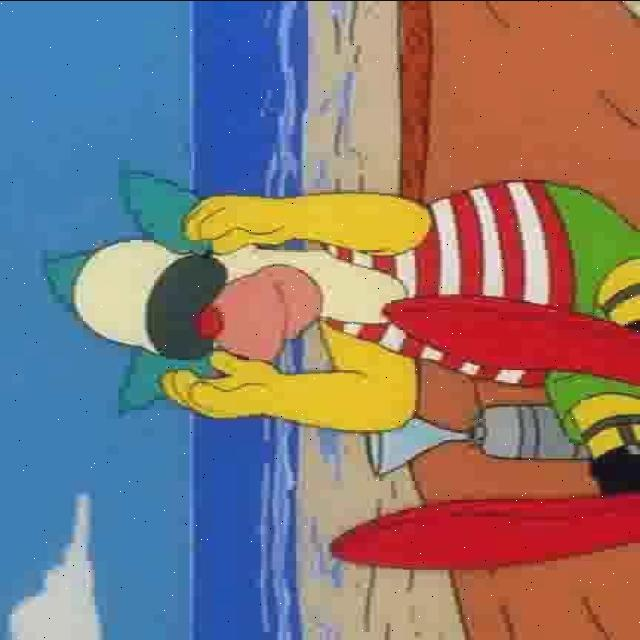Krusty the Clown: (40, 165, 342, 411)
